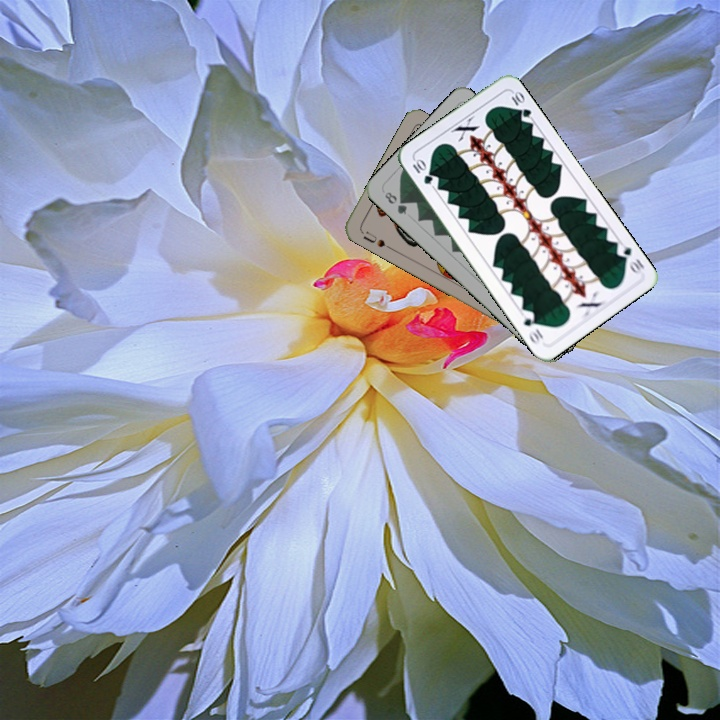G10: (612, 239, 647, 278), (408, 155, 435, 187)
G8: (380, 188, 410, 217)
SU: (359, 227, 394, 252)
